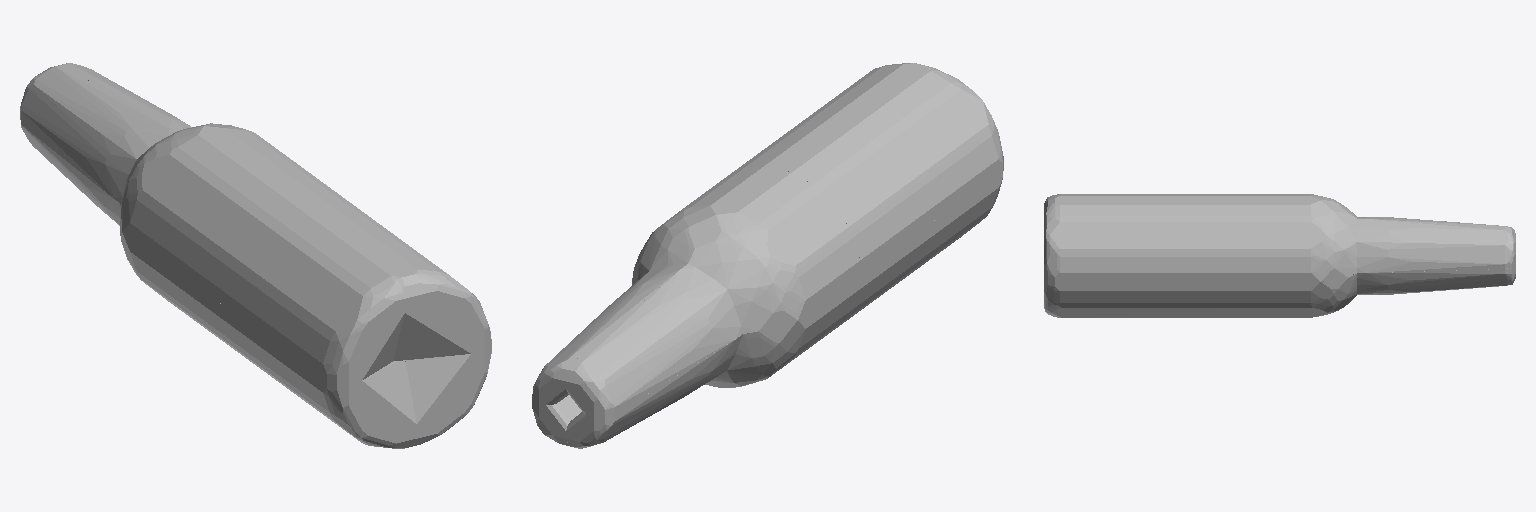
robot.urdf — root:
<robot name="root">
  <link name="link_coacd_convex_piece_0">
    <inertial>
      <origin xyz="0 0 0" rpy="0 0 0"/>
      <inertia ixx="1.21E-03" ixy="-1.24E-05" ixz="-1.28E-04" iyy="1.21E-03" iyz="-1.28E-04" izz="3.88E-05"/>
    </inertial>
    <visual>
      <origin xyz="0 0 0" rpy="0 0 0"/>
      <geometry>
        <mesh filename="coacd_convex_piece_0.obj" scale="1.0000E+00 1.0000E+00 1.0000E+00"/>
      </geometry>
      <material name="">
        <color rgba="7.50E-01 7.50E-01 7.50E-01 1"/>
      </material>
    </visual>
    <collision>
      <origin xyz="0 0 0" rpy="0 0 0"/>
      <geometry>
        <mesh filename="coacd_convex_piece_0.obj" scale="1.0000E+00 1.0000E+00 1.0000E+00"/>
      </geometry>
    </collision>
  </link>
  <link name="link_coacd_convex_piece_1">
    <inertial>
      <origin xyz="0 0 0" rpy="0 0 0"/>
      <inertia ixx="1.21E-03" ixy="1.24E-05" ixz="-1.27E-04" iyy="1.21E-03" iyz="1.27E-04" izz="3.86E-05"/>
    </inertial>
    <visual>
      <origin xyz="0 0 0" rpy="0 0 0"/>
      <geometry>
        <mesh filename="coacd_convex_piece_1.obj" scale="1.0000E+00 1.0000E+00 1.0000E+00"/>
      </geometry>
      <material name="">
        <color rgba="7.50E-01 7.50E-01 7.50E-01 1"/>
      </material>
    </visual>
    <collision>
      <origin xyz="0 0 0" rpy="0 0 0"/>
      <geometry>
        <mesh filename="coacd_convex_piece_1.obj" scale="1.0000E+00 1.0000E+00 1.0000E+00"/>
      </geometry>
    </collision>
  </link>
  <joint name="link_coacd_convex_piece_1_joint" type="fixed">
    <origin xyz="0 0 0" rpy="0 0 0"/>
    <parent link="link_coacd_convex_piece_0"/>
    <child link="link_coacd_convex_piece_1"/>
  </joint>
  <link name="link_coacd_convex_piece_2">
    <inertial>
      <origin xyz="0 0 0" rpy="0 0 0"/>
      <inertia ixx="1.22E-03" ixy="1.24E-05" ixz="1.28E-04" iyy="1.22E-03" iyz="-1.28E-04" izz="3.88E-05"/>
    </inertial>
    <visual>
      <origin xyz="0 0 0" rpy="0 0 0"/>
      <geometry>
        <mesh filename="coacd_convex_piece_2.obj" scale="1.0000E+00 1.0000E+00 1.0000E+00"/>
      </geometry>
      <material name="">
        <color rgba="7.50E-01 7.50E-01 7.50E-01 1"/>
      </material>
    </visual>
    <collision>
      <origin xyz="0 0 0" rpy="0 0 0"/>
      <geometry>
        <mesh filename="coacd_convex_piece_2.obj" scale="1.0000E+00 1.0000E+00 1.0000E+00"/>
      </geometry>
    </collision>
  </link>
  <joint name="link_coacd_convex_piece_2_joint" type="fixed">
    <origin xyz="0 0 0" rpy="0 0 0"/>
    <parent link="link_coacd_convex_piece_1"/>
    <child link="link_coacd_convex_piece_2"/>
  </joint>
  <link name="link_coacd_convex_piece_3">
    <inertial>
      <origin xyz="0 0 0" rpy="0 0 0"/>
      <inertia ixx="1.21E-03" ixy="-1.24E-05" ixz="1.27E-04" iyy="1.21E-03" iyz="1.28E-04" izz="3.88E-05"/>
    </inertial>
    <visual>
      <origin xyz="0 0 0" rpy="0 0 0"/>
      <geometry>
        <mesh filename="coacd_convex_piece_3.obj" scale="1.0000E+00 1.0000E+00 1.0000E+00"/>
      </geometry>
      <material name="">
        <color rgba="7.50E-01 7.50E-01 7.50E-01 1"/>
      </material>
    </visual>
    <collision>
      <origin xyz="0 0 0" rpy="0 0 0"/>
      <geometry>
        <mesh filename="coacd_convex_piece_3.obj" scale="1.0000E+00 1.0000E+00 1.0000E+00"/>
      </geometry>
    </collision>
  </link>
  <joint name="link_coacd_convex_piece_3_joint" type="fixed">
    <origin xyz="0 0 0" rpy="0 0 0"/>
    <parent link="link_coacd_convex_piece_2"/>
    <child link="link_coacd_convex_piece_3"/>
  </joint>
  <link name="link_coacd_convex_piece_4">
    <inertial>
      <origin xyz="0 0 0" rpy="0 0 0"/>
      <inertia ixx="2.04E-03" ixy="-1.46E-04" ixz="4.90E-04" iyy="2.04E-03" iyz="4.90E-04" izz="4.48E-04"/>
    </inertial>
    <visual>
      <origin xyz="0 0 0" rpy="0 0 0"/>
      <geometry>
        <mesh filename="coacd_convex_piece_4.obj" scale="1.0000E+00 1.0000E+00 1.0000E+00"/>
      </geometry>
      <material name="">
        <color rgba="7.50E-01 7.50E-01 7.50E-01 1"/>
      </material>
    </visual>
    <collision>
      <origin xyz="0 0 0" rpy="0 0 0"/>
      <geometry>
        <mesh filename="coacd_convex_piece_4.obj" scale="1.0000E+00 1.0000E+00 1.0000E+00"/>
      </geometry>
    </collision>
  </link>
  <joint name="link_coacd_convex_piece_4_joint" type="fixed">
    <origin xyz="0 0 0" rpy="0 0 0"/>
    <parent link="link_coacd_convex_piece_3"/>
    <child link="link_coacd_convex_piece_4"/>
  </joint>
  <link name="link_coacd_convex_piece_5">
    <inertial>
      <origin xyz="0 0 0" rpy="0 0 0"/>
      <inertia ixx="1.55E-03" ixy="-2.00E-05" ixz="1.91E-04" iyy="1.55E-03" iyz="1.91E-04" izz="6.30E-05"/>
    </inertial>
    <visual>
      <origin xyz="0 0 0" rpy="0 0 0"/>
      <geometry>
        <mesh filename="coacd_convex_piece_5.obj" scale="1.0000E+00 1.0000E+00 1.0000E+00"/>
      </geometry>
      <material name="">
        <color rgba="7.50E-01 7.50E-01 7.50E-01 1"/>
      </material>
    </visual>
    <collision>
      <origin xyz="0 0 0" rpy="0 0 0"/>
      <geometry>
        <mesh filename="coacd_convex_piece_5.obj" scale="1.0000E+00 1.0000E+00 1.0000E+00"/>
      </geometry>
    </collision>
  </link>
  <joint name="link_coacd_convex_piece_5_joint" type="fixed">
    <origin xyz="0 0 0" rpy="0 0 0"/>
    <parent link="link_coacd_convex_piece_4"/>
    <child link="link_coacd_convex_piece_5"/>
  </joint>
  <link name="link_coacd_convex_piece_6">
    <inertial>
      <origin xyz="0 0 0" rpy="0 0 0"/>
      <inertia ixx="2.05E-03" ixy="1.46E-04" ixz="-4.91E-04" iyy="2.05E-03" iyz="4.91E-04" izz="4.49E-04"/>
    </inertial>
    <visual>
      <origin xyz="0 0 0" rpy="0 0 0"/>
      <geometry>
        <mesh filename="coacd_convex_piece_6.obj" scale="1.0000E+00 1.0000E+00 1.0000E+00"/>
      </geometry>
      <material name="">
        <color rgba="7.50E-01 7.50E-01 7.50E-01 1"/>
      </material>
    </visual>
    <collision>
      <origin xyz="0 0 0" rpy="0 0 0"/>
      <geometry>
        <mesh filename="coacd_convex_piece_6.obj" scale="1.0000E+00 1.0000E+00 1.0000E+00"/>
      </geometry>
    </collision>
  </link>
  <joint name="link_coacd_convex_piece_6_joint" type="fixed">
    <origin xyz="0 0 0" rpy="0 0 0"/>
    <parent link="link_coacd_convex_piece_5"/>
    <child link="link_coacd_convex_piece_6"/>
  </joint>
  <link name="link_coacd_convex_piece_7">
    <inertial>
      <origin xyz="0 0 0" rpy="0 0 0"/>
      <inertia ixx="1.56E-03" ixy="2.00E-05" ixz="-1.91E-04" iyy="1.56E-03" iyz="1.91E-04" izz="6.30E-05"/>
    </inertial>
    <visual>
      <origin xyz="0 0 0" rpy="0 0 0"/>
      <geometry>
        <mesh filename="coacd_convex_piece_7.obj" scale="1.0000E+00 1.0000E+00 1.0000E+00"/>
      </geometry>
      <material name="">
        <color rgba="7.50E-01 7.50E-01 7.50E-01 1"/>
      </material>
    </visual>
    <collision>
      <origin xyz="0 0 0" rpy="0 0 0"/>
      <geometry>
        <mesh filename="coacd_convex_piece_7.obj" scale="1.0000E+00 1.0000E+00 1.0000E+00"/>
      </geometry>
    </collision>
  </link>
  <joint name="link_coacd_convex_piece_7_joint" type="fixed">
    <origin xyz="0 0 0" rpy="0 0 0"/>
    <parent link="link_coacd_convex_piece_6"/>
    <child link="link_coacd_convex_piece_7"/>
  </joint>
  <link name="link_coacd_convex_piece_8">
    <inertial>
      <origin xyz="0 0 0" rpy="0 0 0"/>
      <inertia ixx="2.43E-03" ixy="1.03E-04" ixz="4.97E-04" iyy="2.39E-03" iyz="-5.89E-04" izz="3.57E-04"/>
    </inertial>
    <visual>
      <origin xyz="0 0 0" rpy="0 0 0"/>
      <geometry>
        <mesh filename="coacd_convex_piece_8.obj" scale="1.0000E+00 1.0000E+00 1.0000E+00"/>
      </geometry>
      <material name="">
        <color rgba="7.50E-01 7.50E-01 7.50E-01 1"/>
      </material>
    </visual>
    <collision>
      <origin xyz="0 0 0" rpy="0 0 0"/>
      <geometry>
        <mesh filename="coacd_convex_piece_8.obj" scale="1.0000E+00 1.0000E+00 1.0000E+00"/>
      </geometry>
    </collision>
  </link>
  <joint name="link_coacd_convex_piece_8_joint" type="fixed">
    <origin xyz="0 0 0" rpy="0 0 0"/>
    <parent link="link_coacd_convex_piece_7"/>
    <child link="link_coacd_convex_piece_8"/>
  </joint>
  <link name="link_coacd_convex_piece_9">
    <inertial>
      <origin xyz="0 0 0" rpy="0 0 0"/>
      <inertia ixx="1.84E-03" ixy="1.93E-05" ixz="1.87E-04" iyy="1.84E-03" iyz="-2.33E-04" izz="7.10E-05"/>
    </inertial>
    <visual>
      <origin xyz="0 0 0" rpy="0 0 0"/>
      <geometry>
        <mesh filename="coacd_convex_piece_9.obj" scale="1.0000E+00 1.0000E+00 1.0000E+00"/>
      </geometry>
      <material name="">
        <color rgba="7.50E-01 7.50E-01 7.50E-01 1"/>
      </material>
    </visual>
    <collision>
      <origin xyz="0 0 0" rpy="0 0 0"/>
      <geometry>
        <mesh filename="coacd_convex_piece_9.obj" scale="1.0000E+00 1.0000E+00 1.0000E+00"/>
      </geometry>
    </collision>
  </link>
  <joint name="link_coacd_convex_piece_9_joint" type="fixed">
    <origin xyz="0 0 0" rpy="0 0 0"/>
    <parent link="link_coacd_convex_piece_8"/>
    <child link="link_coacd_convex_piece_9"/>
  </joint>
  <link name="link_coacd_convex_piece_10">
    <inertial>
      <origin xyz="0 0 0" rpy="0 0 0"/>
      <inertia ixx="1.67E-03" ixy="-9.40E-05" ixz="-4.48E-04" iyy="1.71E-03" iyz="-3.75E-04" izz="2.68E-04"/>
    </inertial>
    <visual>
      <origin xyz="0 0 0" rpy="0 0 0"/>
      <geometry>
        <mesh filename="coacd_convex_piece_10.obj" scale="1.0000E+00 1.0000E+00 1.0000E+00"/>
      </geometry>
      <material name="">
        <color rgba="7.50E-01 7.50E-01 7.50E-01 1"/>
      </material>
    </visual>
    <collision>
      <origin xyz="0 0 0" rpy="0 0 0"/>
      <geometry>
        <mesh filename="coacd_convex_piece_10.obj" scale="1.0000E+00 1.0000E+00 1.0000E+00"/>
      </geometry>
    </collision>
  </link>
  <joint name="link_coacd_convex_piece_10_joint" type="fixed">
    <origin xyz="0 0 0" rpy="0 0 0"/>
    <parent link="link_coacd_convex_piece_9"/>
    <child link="link_coacd_convex_piece_10"/>
  </joint>
  <link name="link_coacd_convex_piece_11">
    <inertial>
      <origin xyz="0 0 0" rpy="0 0 0"/>
      <inertia ixx="1.27E-03" ixy="-1.92E-05" ixz="-1.85E-04" iyy="1.28E-03" iyz="-1.50E-04" izz="5.52E-05"/>
    </inertial>
    <visual>
      <origin xyz="0 0 0" rpy="0 0 0"/>
      <geometry>
        <mesh filename="coacd_convex_piece_11.obj" scale="1.0000E+00 1.0000E+00 1.0000E+00"/>
      </geometry>
      <material name="">
        <color rgba="7.50E-01 7.50E-01 7.50E-01 1"/>
      </material>
    </visual>
    <collision>
      <origin xyz="0 0 0" rpy="0 0 0"/>
      <geometry>
        <mesh filename="coacd_convex_piece_11.obj" scale="1.0000E+00 1.0000E+00 1.0000E+00"/>
      </geometry>
    </collision>
  </link>
  <joint name="link_coacd_convex_piece_11_joint" type="fixed">
    <origin xyz="0 0 0" rpy="0 0 0"/>
    <parent link="link_coacd_convex_piece_10"/>
    <child link="link_coacd_convex_piece_11"/>
  </joint>
  <link name="link_coacd_convex_piece_12">
    <inertial>
      <origin xyz="0 0 0" rpy="0 0 0"/>
      <inertia ixx="6.29E-05" ixy="-2.04E-05" ixz="-4.44E-05" iyy="6.30E-05" iyz="-4.43E-05" izz="6.21E-05"/>
    </inertial>
    <visual>
      <origin xyz="0 0 0" rpy="0 0 0"/>
      <geometry>
        <mesh filename="coacd_convex_piece_12.obj" scale="1.0000E+00 1.0000E+00 1.0000E+00"/>
      </geometry>
      <material name="">
        <color rgba="7.50E-01 7.50E-01 7.50E-01 1"/>
      </material>
    </visual>
    <collision>
      <origin xyz="0 0 0" rpy="0 0 0"/>
      <geometry>
        <mesh filename="coacd_convex_piece_12.obj" scale="1.0000E+00 1.0000E+00 1.0000E+00"/>
      </geometry>
    </collision>
  </link>
  <joint name="link_coacd_convex_piece_12_joint" type="fixed">
    <origin xyz="0 0 0" rpy="0 0 0"/>
    <parent link="link_coacd_convex_piece_11"/>
    <child link="link_coacd_convex_piece_12"/>
  </joint>
  <link name="link_coacd_convex_piece_13">
    <inertial>
      <origin xyz="0 0 0" rpy="0 0 0"/>
      <inertia ixx="6.32E-05" ixy="-2.25E-05" ixz="4.70E-05" iyy="6.34E-05" iyz="4.68E-05" izz="6.93E-05"/>
    </inertial>
    <visual>
      <origin xyz="0 0 0" rpy="0 0 0"/>
      <geometry>
        <mesh filename="coacd_convex_piece_13.obj" scale="1.0000E+00 1.0000E+00 1.0000E+00"/>
      </geometry>
      <material name="">
        <color rgba="7.50E-01 7.50E-01 7.50E-01 1"/>
      </material>
    </visual>
    <collision>
      <origin xyz="0 0 0" rpy="0 0 0"/>
      <geometry>
        <mesh filename="coacd_convex_piece_13.obj" scale="1.0000E+00 1.0000E+00 1.0000E+00"/>
      </geometry>
    </collision>
  </link>
  <joint name="link_coacd_convex_piece_13_joint" type="fixed">
    <origin xyz="0 0 0" rpy="0 0 0"/>
    <parent link="link_coacd_convex_piece_12"/>
    <child link="link_coacd_convex_piece_13"/>
  </joint>
  <link name="link_coacd_convex_piece_14">
    <inertial>
      <origin xyz="0 0 0" rpy="0 0 0"/>
      <inertia ixx="6.23E-05" ixy="2.00E-05" ixz="4.38E-05" iyy="6.22E-05" iyz="-4.40E-05" izz="6.16E-05"/>
    </inertial>
    <visual>
      <origin xyz="0 0 0" rpy="0 0 0"/>
      <geometry>
        <mesh filename="coacd_convex_piece_14.obj" scale="1.0000E+00 1.0000E+00 1.0000E+00"/>
      </geometry>
      <material name="">
        <color rgba="7.50E-01 7.50E-01 7.50E-01 1"/>
      </material>
    </visual>
    <collision>
      <origin xyz="0 0 0" rpy="0 0 0"/>
      <geometry>
        <mesh filename="coacd_convex_piece_14.obj" scale="1.0000E+00 1.0000E+00 1.0000E+00"/>
      </geometry>
    </collision>
  </link>
  <joint name="link_coacd_convex_piece_14_joint" type="fixed">
    <origin xyz="0 0 0" rpy="0 0 0"/>
    <parent link="link_coacd_convex_piece_13"/>
    <child link="link_coacd_convex_piece_14"/>
  </joint>
  <link name="link_coacd_convex_piece_15">
    <inertial>
      <origin xyz="0 0 0" rpy="0 0 0"/>
      <inertia ixx="-7.65E-06" ixy="-4.17E-05" ixz="-1.07E-05" iyy="-7.33E-06" iyz="-1.06E-05" izz="1.28E-04"/>
    </inertial>
    <visual>
      <origin xyz="0 0 0" rpy="0 0 0"/>
      <geometry>
        <mesh filename="coacd_convex_piece_15.obj" scale="1.0000E+00 1.0000E+00 1.0000E+00"/>
      </geometry>
      <material name="">
        <color rgba="7.50E-01 7.50E-01 7.50E-01 1"/>
      </material>
    </visual>
    <collision>
      <origin xyz="0 0 0" rpy="0 0 0"/>
      <geometry>
        <mesh filename="coacd_convex_piece_15.obj" scale="1.0000E+00 1.0000E+00 1.0000E+00"/>
      </geometry>
    </collision>
  </link>
  <joint name="link_coacd_convex_piece_15_joint" type="fixed">
    <origin xyz="0 0 0" rpy="0 0 0"/>
    <parent link="link_coacd_convex_piece_14"/>
    <child link="link_coacd_convex_piece_15"/>
  </joint>
  <link name="link_coacd_convex_piece_16">
    <inertial>
      <origin xyz="0 0 0" rpy="0 0 0"/>
      <inertia ixx="6.24E-05" ixy="2.00E-05" ixz="-4.39E-05" iyy="6.24E-05" iyz="4.40E-05" izz="6.17E-05"/>
    </inertial>
    <visual>
      <origin xyz="0 0 0" rpy="0 0 0"/>
      <geometry>
        <mesh filename="coacd_convex_piece_16.obj" scale="1.0000E+00 1.0000E+00 1.0000E+00"/>
      </geometry>
      <material name="">
        <color rgba="7.50E-01 7.50E-01 7.50E-01 1"/>
      </material>
    </visual>
    <collision>
      <origin xyz="0 0 0" rpy="0 0 0"/>
      <geometry>
        <mesh filename="coacd_convex_piece_16.obj" scale="1.0000E+00 1.0000E+00 1.0000E+00"/>
      </geometry>
    </collision>
  </link>
  <joint name="link_coacd_convex_piece_16_joint" type="fixed">
    <origin xyz="0 0 0" rpy="0 0 0"/>
    <parent link="link_coacd_convex_piece_15"/>
    <child link="link_coacd_convex_piece_16"/>
  </joint>
  <link name="link_coacd_convex_piece_17">
    <inertial>
      <origin xyz="0 0 0" rpy="0 0 0"/>
      <inertia ixx="-6.85E-06" ixy="4.41E-05" ixz="8.11E-06" iyy="-6.79E-06" iyz="-8.10E-06" izz="1.36E-04"/>
    </inertial>
    <visual>
      <origin xyz="0 0 0" rpy="0 0 0"/>
      <geometry>
        <mesh filename="coacd_convex_piece_17.obj" scale="1.0000E+00 1.0000E+00 1.0000E+00"/>
      </geometry>
      <material name="">
        <color rgba="7.50E-01 7.50E-01 7.50E-01 1"/>
      </material>
    </visual>
    <collision>
      <origin xyz="0 0 0" rpy="0 0 0"/>
      <geometry>
        <mesh filename="coacd_convex_piece_17.obj" scale="1.0000E+00 1.0000E+00 1.0000E+00"/>
      </geometry>
    </collision>
  </link>
  <joint name="link_coacd_convex_piece_17_joint" type="fixed">
    <origin xyz="0 0 0" rpy="0 0 0"/>
    <parent link="link_coacd_convex_piece_16"/>
    <child link="link_coacd_convex_piece_17"/>
  </joint>
</robot>

--- Render facts (derived) ---
3 views of the same robot in one strip: view 1: azimuth 30°, elevation 25°; view 2: azimuth 150°, elevation 25°; view 3: azimuth 270°, elevation 25° (orthographic).
Model root with 18 links and 17 joints (17 fixed), rooted at link_coacd_convex_piece_0, posed all joints at 0.
Visible links, largest first — view 1: link_coacd_convex_piece_10, link_coacd_convex_piece_3, link_coacd_convex_piece_15, link_coacd_convex_piece_11, link_coacd_convex_piece_9, link_coacd_convex_piece_6, link_coacd_convex_piece_7, link_coacd_convex_piece_8, link_coacd_convex_piece_5, link_coacd_convex_piece_13, link_coacd_convex_piece_2, link_coacd_convex_piece_17 (+1 smaller); view 2: link_coacd_convex_piece_10, link_coacd_convex_piece_3, link_coacd_convex_piece_13, link_coacd_convex_piece_15, link_coacd_convex_piece_6, link_coacd_convex_piece_8, link_coacd_convex_piece_2, link_coacd_convex_piece_1, link_coacd_convex_piece_14, link_coacd_convex_piece_16, link_coacd_convex_piece_11, link_coacd_convex_piece_17 (+3 smaller); view 3: link_coacd_convex_piece_8, link_coacd_convex_piece_4, link_coacd_convex_piece_1, link_coacd_convex_piece_17, link_coacd_convex_piece_16, link_coacd_convex_piece_0, link_coacd_convex_piece_9, link_coacd_convex_piece_12, link_coacd_convex_piece_5.
Link boxes in pixels (x1=…): link_coacd_convex_piece_10: x1=185, y1=174, x2=379, y2=368; link_coacd_convex_piece_3: x1=20, y1=65, x2=173, y2=203; link_coacd_convex_piece_15: x1=133, y1=134, x2=265, y2=276; link_coacd_convex_piece_11: x1=311, y1=267, x2=404, y2=383; link_coacd_convex_piece_9: x1=382, y1=261, x2=491, y2=360; link_coacd_convex_piece_6: x1=130, y1=238, x2=347, y2=432; link_coacd_convex_piece_7: x1=311, y1=360, x2=416, y2=448; link_coacd_convex_piece_8: x1=255, y1=168, x2=434, y2=266; link_coacd_convex_piece_5: x1=405, y1=346, x2=491, y2=445; link_coacd_convex_piece_13: x1=119, y1=126, x2=213, y2=238; link_coacd_convex_piece_2: x1=20, y1=113, x2=119, y2=225; link_coacd_convex_piece_17: x1=212, y1=128, x2=308, y2=172; link_coacd_convex_piece_10: x1=791, y1=79, x2=986, y2=274; link_coacd_convex_piece_3: x1=566, y1=264, x2=742, y2=416; link_coacd_convex_piece_13: x1=688, y1=207, x2=808, y2=333; link_coacd_convex_piece_15: x1=727, y1=169, x2=859, y2=311; link_coacd_convex_piece_6: x1=770, y1=182, x2=986, y2=376; link_coacd_convex_piece_8: x1=737, y1=73, x2=916, y2=171; link_coacd_convex_piece_2: x1=566, y1=334, x2=742, y2=448; link_coacd_convex_piece_1: x1=532, y1=264, x2=686, y2=404; link_coacd_convex_piece_14: x1=705, y1=315, x2=805, y2=387; link_coacd_convex_piece_16: x1=632, y1=206, x2=722, y2=285; link_coacd_convex_piece_11: x1=918, y1=69, x2=1003, y2=181; link_coacd_convex_piece_17: x1=682, y1=166, x2=777, y2=209; link_coacd_convex_piece_8: x1=1075, y1=197, x2=1239, y2=281; link_coacd_convex_piece_4: x1=1075, y1=282, x2=1310, y2=317; link_coacd_convex_piece_1: x1=1357, y1=219, x2=1515, y2=272; link_coacd_convex_piece_17: x1=1240, y1=200, x2=1310, y2=281; link_coacd_convex_piece_16: x1=1311, y1=200, x2=1356, y2=281; link_coacd_convex_piece_0: x1=1357, y1=265, x2=1515, y2=294; link_coacd_convex_piece_9: x1=1044, y1=197, x2=1074, y2=281; link_coacd_convex_piece_12: x1=1311, y1=274, x2=1356, y2=317; link_coacd_convex_piece_5: x1=1044, y1=278, x2=1074, y2=317.
Size in the robot's own frame: 0.5001 by 1.92 by 0.5001 metres.
Meshes: 18 distinct files referenced, 18 mesh visuals loaded (18 OBJ).
